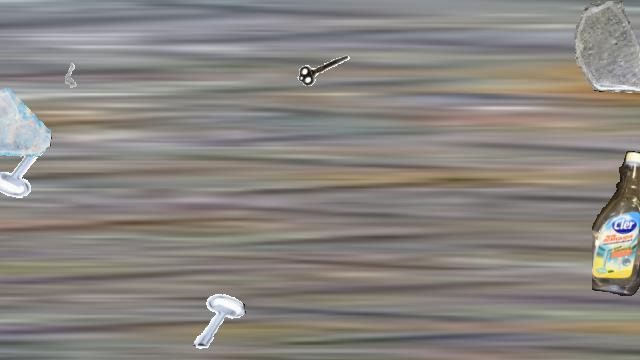glass: (569, 1, 640, 93), (0, 85, 52, 159)
metal: (186, 290, 246, 350), (295, 42, 353, 100), (0, 139, 53, 201), (52, 52, 90, 90)
plastic: (592, 151, 640, 295)
